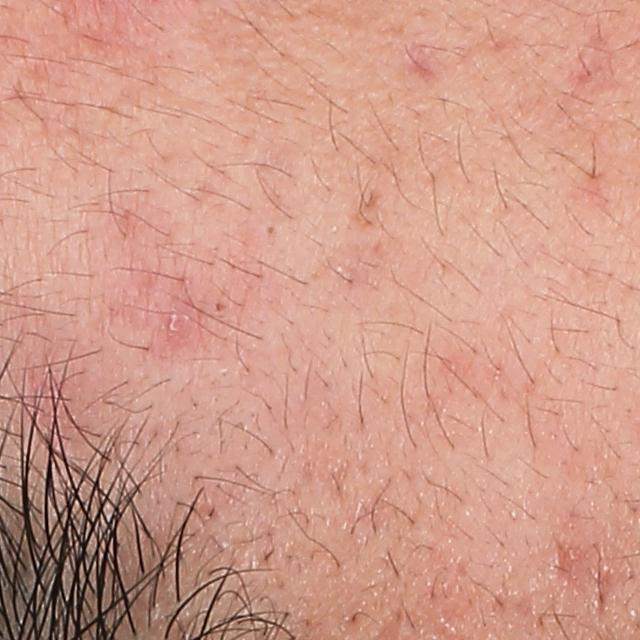atrophic_scar: (403, 46, 442, 87)
comedo: (261, 219, 280, 239), (212, 298, 226, 317)
